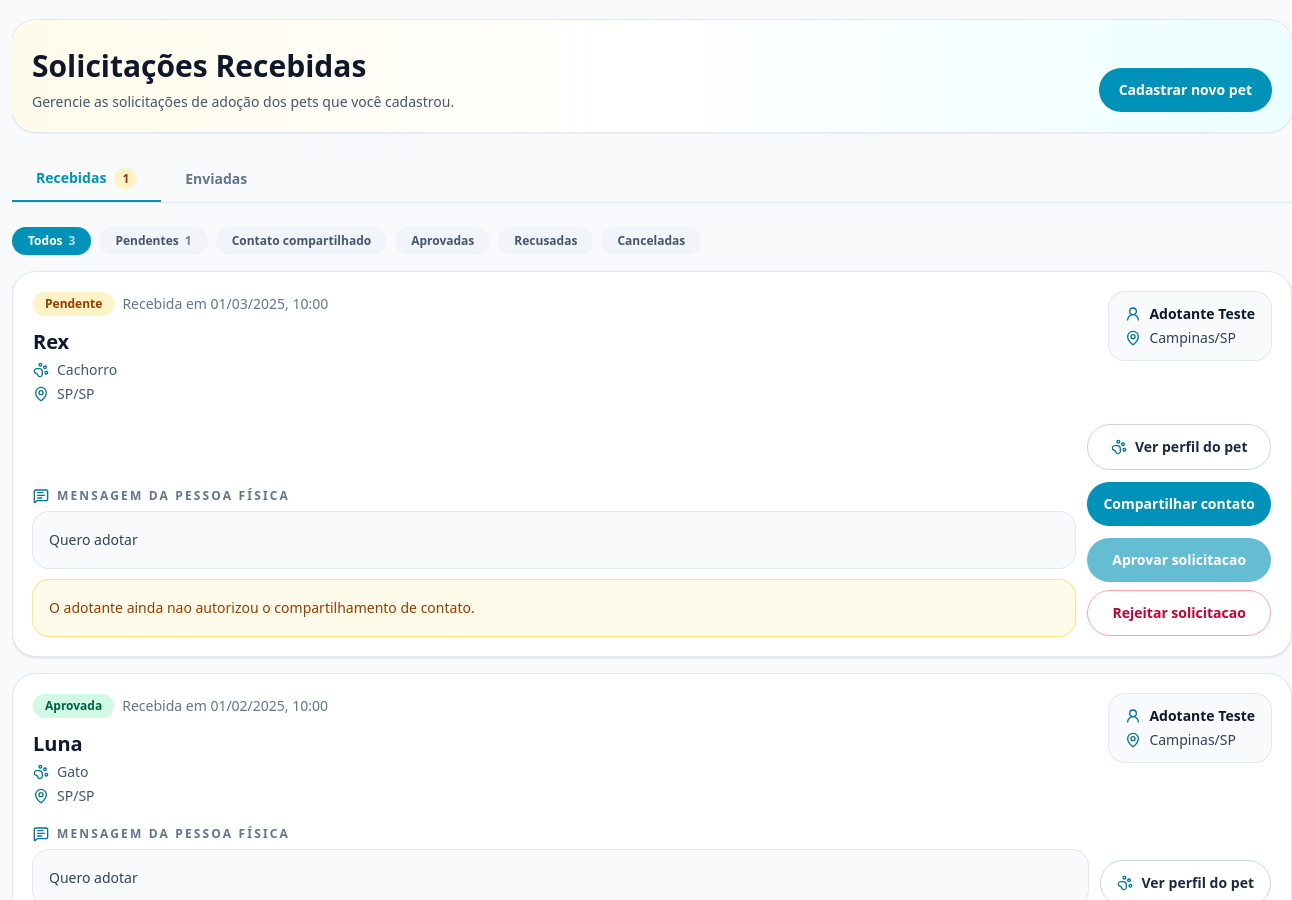
Test: AdoptionRequestsPage › filtra solicitações por status Canceladas e exibe badge correto
The image size is (1292, 900).
Click the button "Canceladas" at (651, 241), box [601,227,701,255]
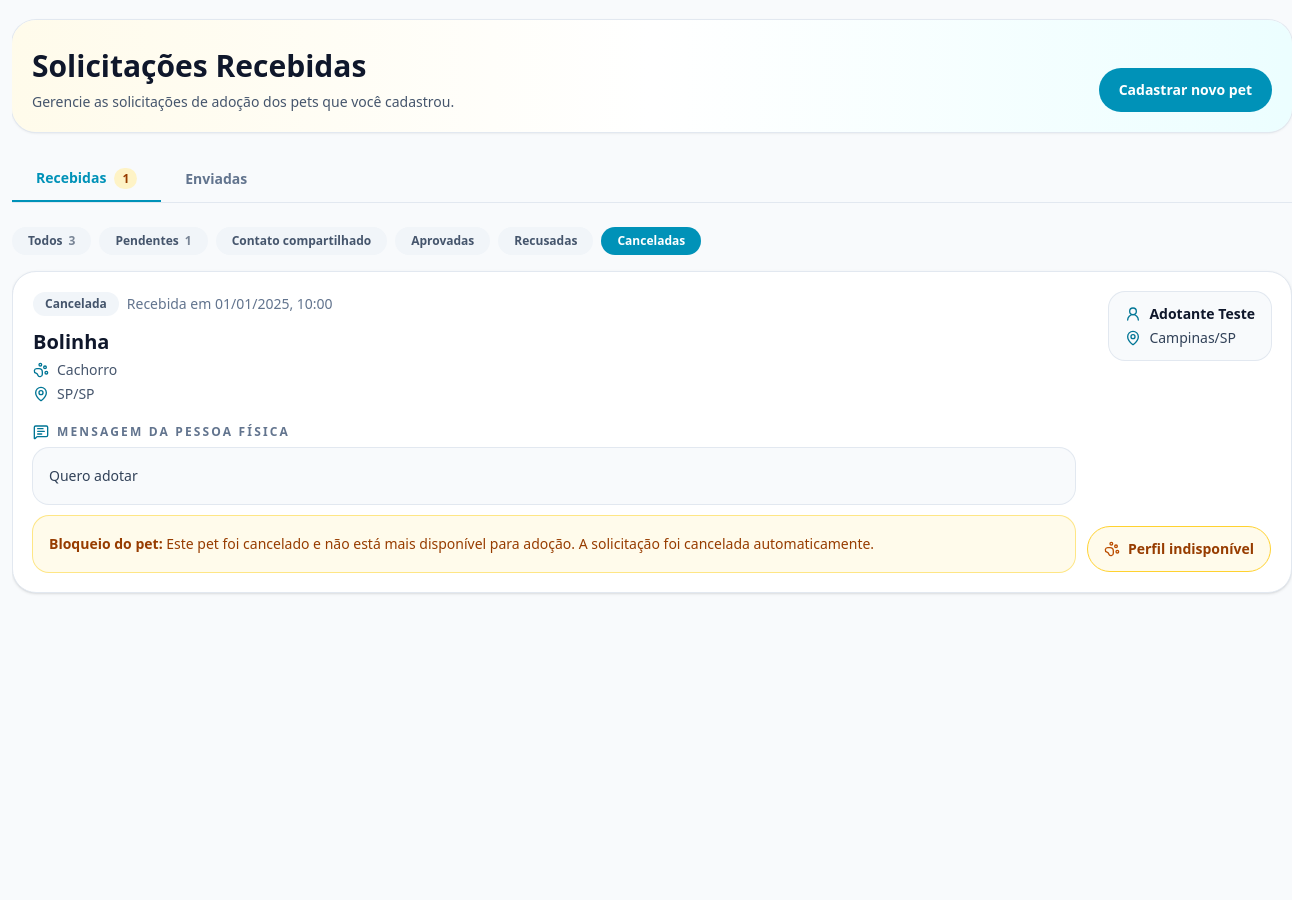
Expected: the heading "Bolinha" is shown, [33,328,109,355]
Expected: the heading "Rex" is gone
